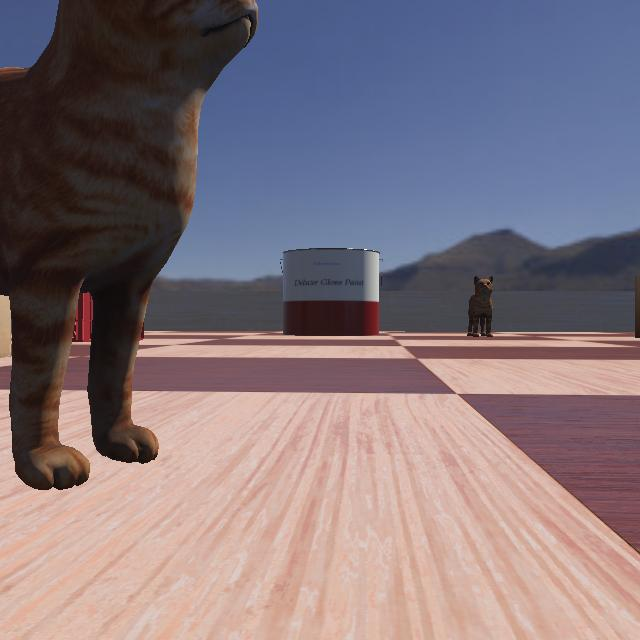cat: (1, 1, 286, 502), (1, 1, 286, 502), (455, 273, 499, 337), (455, 273, 499, 337), (455, 273, 499, 337)
paint-bucket: (276, 248, 390, 336)
